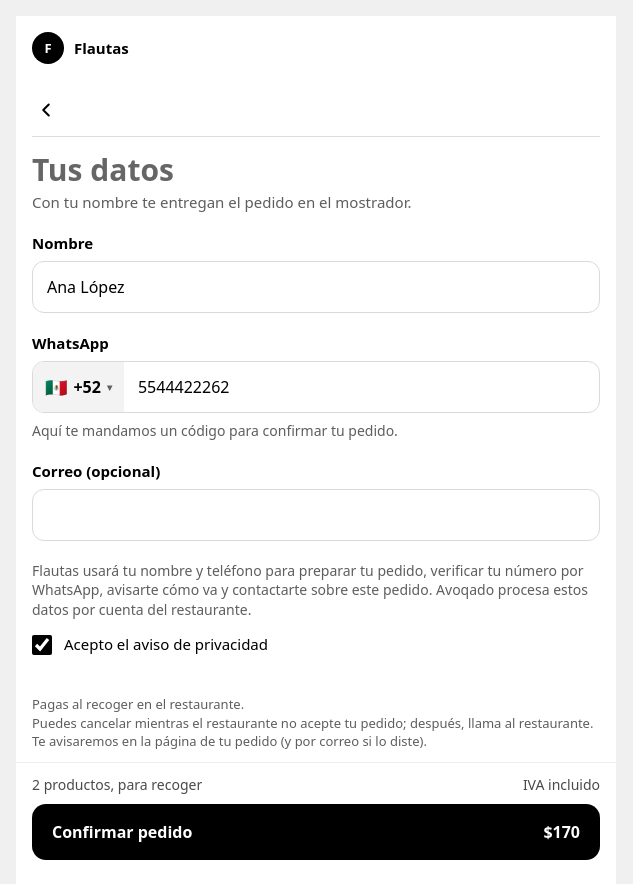
Test case: «Confirmar pedido» en un pie fijo › Tus datos: pie fijo con «2 productos, para recoger» y «Confirmar pedido» + total; «Enviando…» mientras va
Expected: the text "2 productos, para recoger" is shown, [32,775,202,794]
Expected: the text "IVA incluido" is shown, [523,775,600,794]
Click the button "Confirmar pedido $170" at (122, 832), box [32,804,600,860]
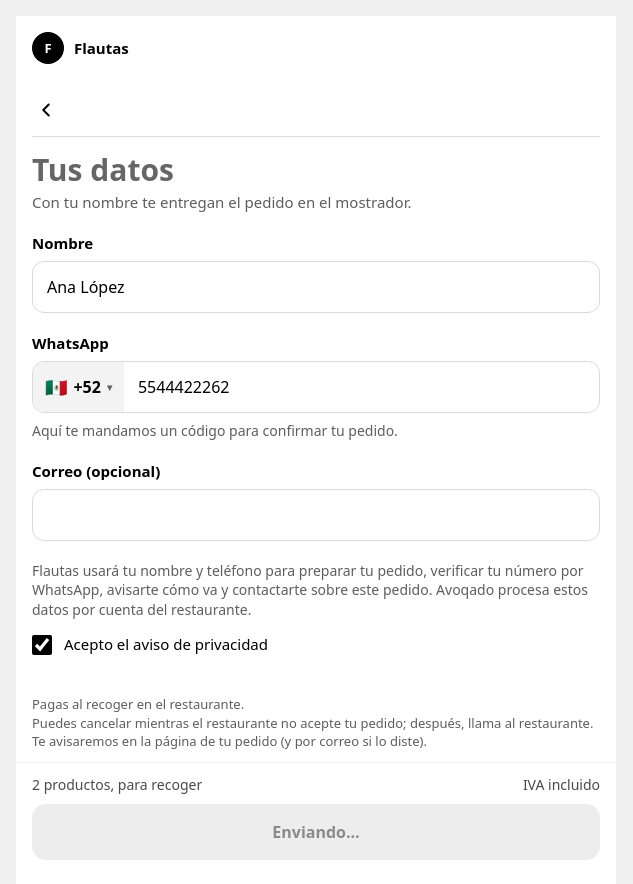
Expected: the button "Enviando…" is shown, [32,804,600,860]
Expected: the button "Enviando…" is disabled, [32,804,600,860]
